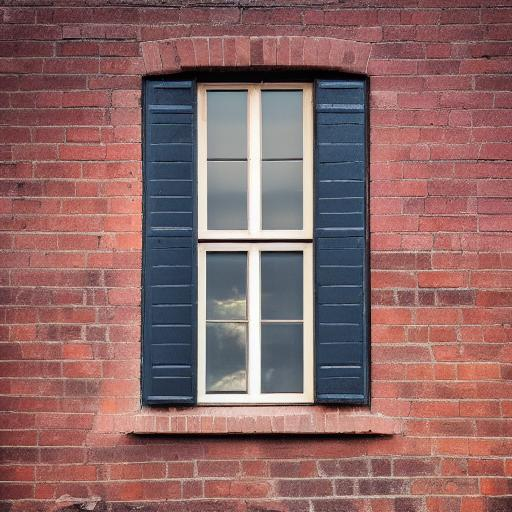Window: (128, 37, 399, 436)
